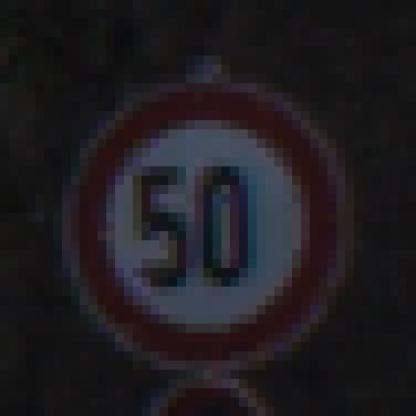Speed Limit 50: (82, 86, 342, 362)
